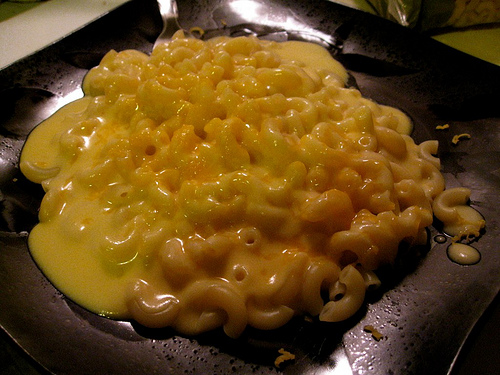macncheese: (29, 31, 480, 347)
